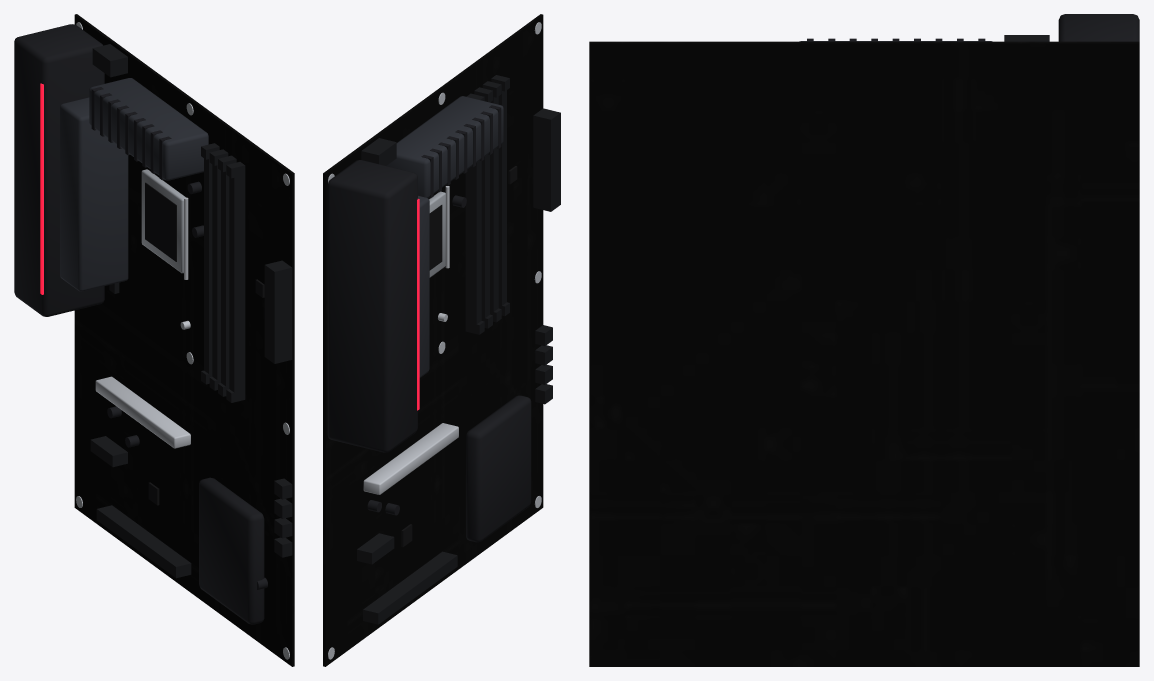
Rendered from board-atx.glb.
The picture shows the model from 3 angles, left to right: view 1: azimuth 30°, elevation 25°; view 2: azimuth 150°, elevation 25°; view 3: azimuth 270°, elevation 25°; orthographic projection. The views are drawn at different scales.
Parts seen in each view (by area): view 1: board_atx_pcb; view 2: board_atx_pcb; view 3: board_atx_pcb.
Boxes of the visible parts, x1,y1,x2,y2 form: board_atx_pcb: [14, 14, 294, 666]; board_atx_pcb: [323, 14, 560, 666]; board_atx_pcb: [589, 14, 1139, 666].
Size of the model in its own units: 0.0425 by 0.305 by 0.244.
Materials: 8 (1 with a texture image).
